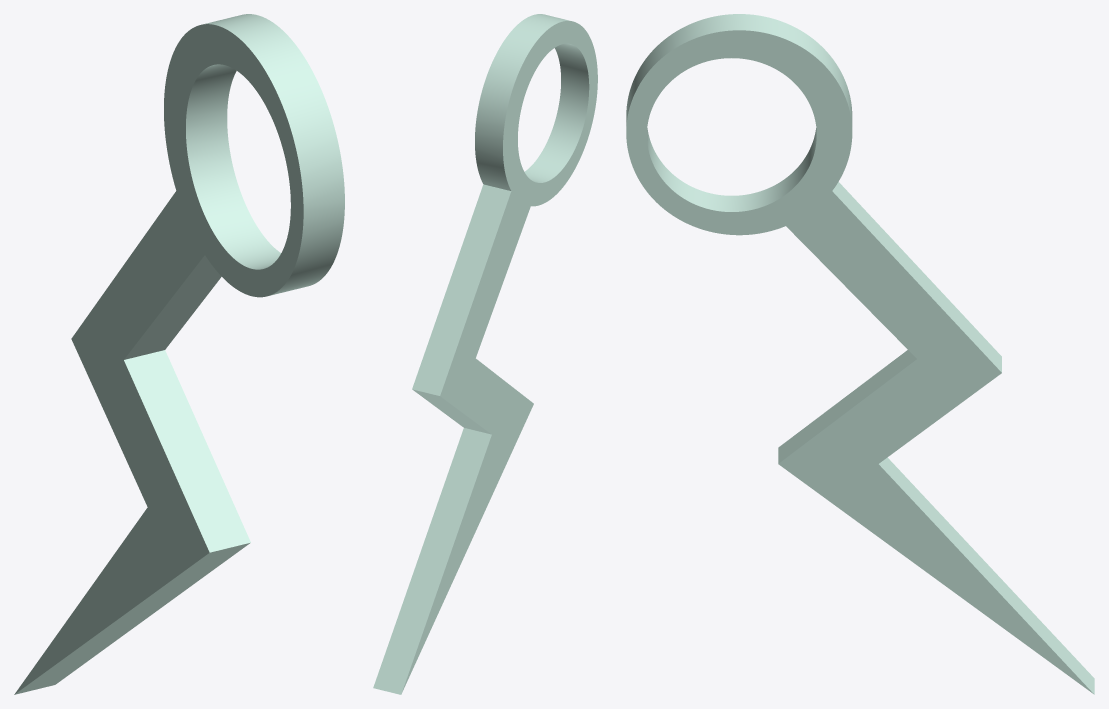
The picture shows the model from 3 angles, left to right: view 1: azimuth 30°, elevation 25°; view 2: azimuth 150°, elevation 25°; view 3: azimuth 270°, elevation 25°; orthographic projection. The views are drawn at different scales.
Parts seen in each view (by area): view 1: Renderer Node; view 2: Renderer Node; view 3: Renderer Node.
Boxes of the visible parts, x1=… form: Renderer Node: x1=14, y1=14, x2=344, y2=694; Renderer Node: x1=373, y1=14, x2=597, y2=694; Renderer Node: x1=626, y1=14, x2=1094, y2=694.
Size of the model in its own units: 0.0469 by 0.8904 by 0.5688.
